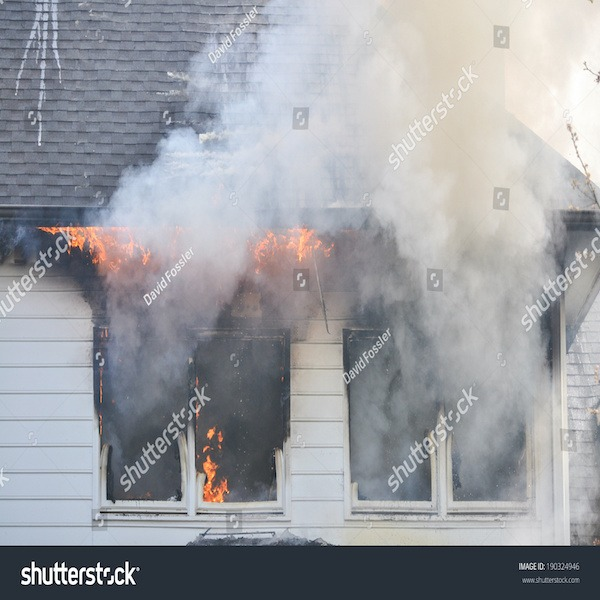fire: (46, 227, 149, 261), (197, 434, 227, 497), (265, 232, 331, 257)
